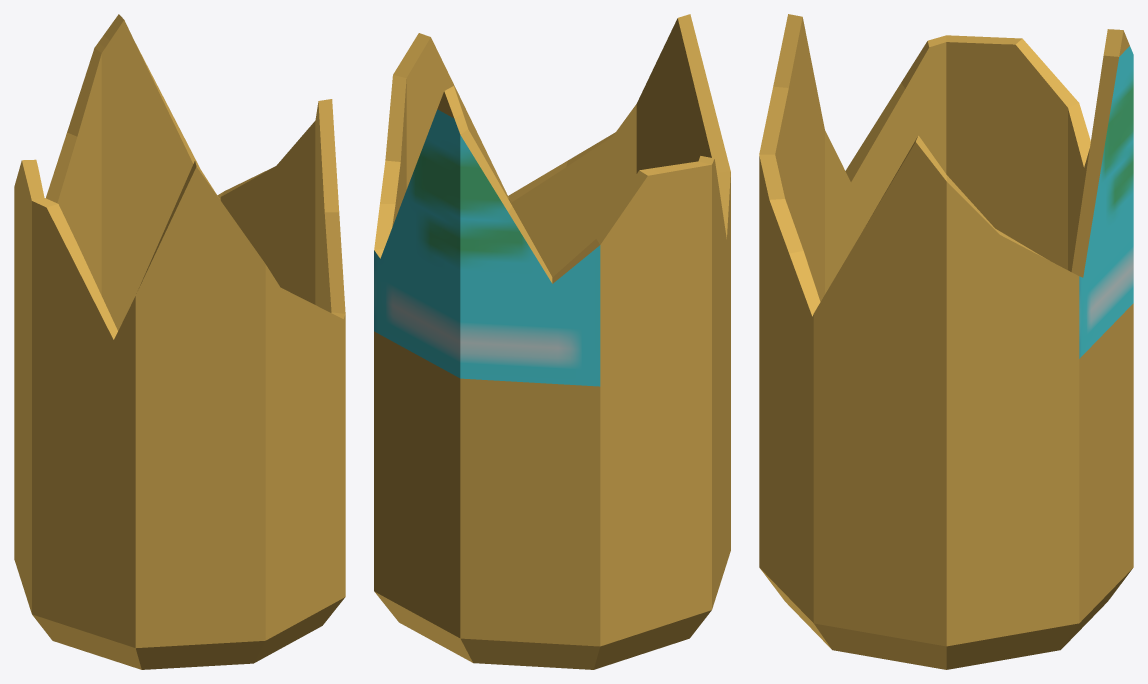
Rendered from BrokenBottledPaleAle_Mesh.obj.
3 renders of one model, left to right at view 1: azimuth 30°, elevation 25°; view 2: azimuth 150°, elevation 25°; view 3: azimuth 270°, elevation 25°, orthographic. The views are drawn at different scales.
Visible parts, largest first — view 1: BrokenBottledPaleAle_Mesh_0; view 2: BrokenBottledPaleAle_Mesh_0; view 3: BrokenBottledPaleAle_Mesh_0.
Boxes of the visible parts, left/top/right/bottom form: BrokenBottledPaleAle_Mesh_0: left=14, top=14, right=345, bottom=669; BrokenBottledPaleAle_Mesh_0: left=374, top=14, right=730, bottom=669; BrokenBottledPaleAle_Mesh_0: left=759, top=14, right=1133, bottom=669.
Size of the model in its own units: 0.0938 by 0.161 by 0.0939.
1 material, 1 textured.
